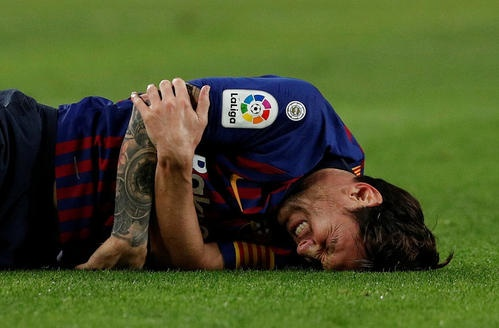falling: (0, 55, 452, 275)
